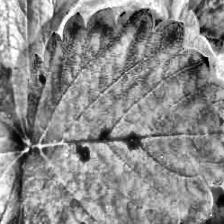Leaf Spot: (19, 6, 224, 224), (0, 0, 102, 141), (0, 103, 77, 223)
